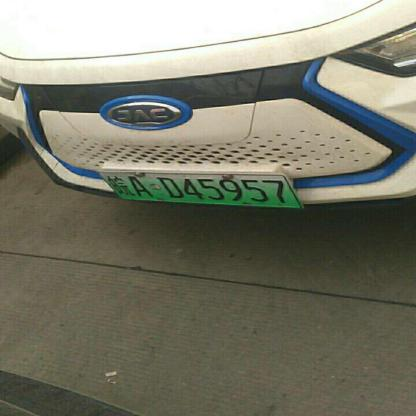lp: (98, 172, 304, 207)
